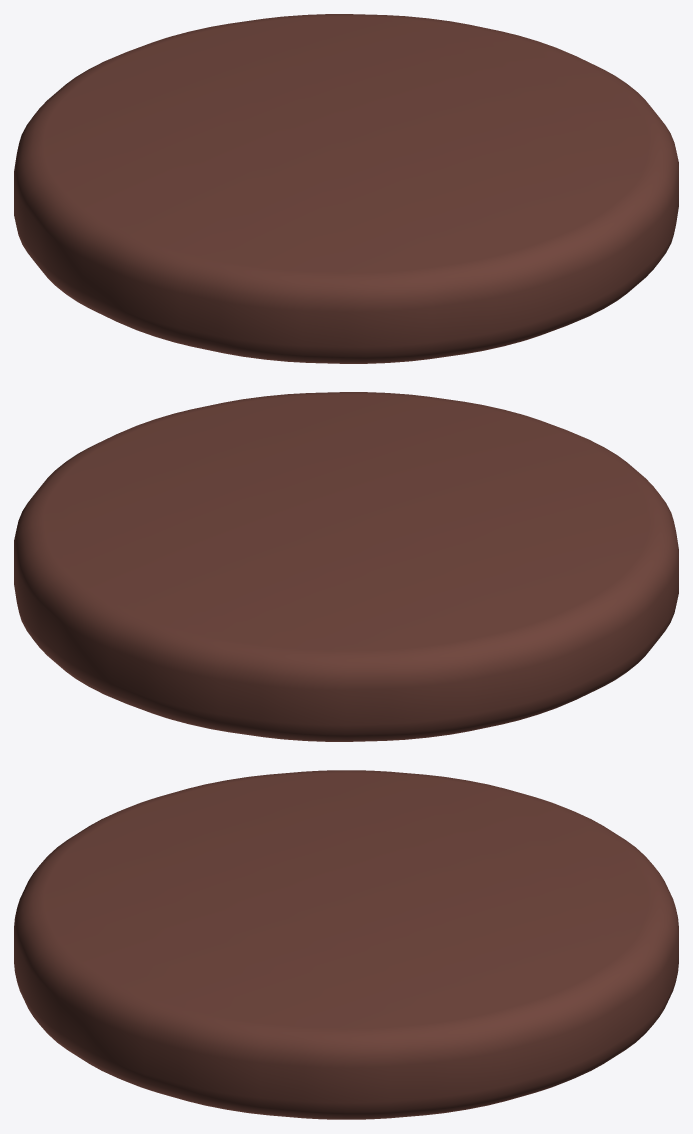
The model's file is meat.fbx.
3 renders of one model, top to bottom at view 1: azimuth 30°, elevation 25°; view 2: azimuth 150°, elevation 25°; view 3: azimuth 270°, elevation 25°, orthographic.
Visible parts, largest first — view 1: Cylinder; view 2: Cylinder; view 3: Cylinder.
Part boxes in pixels (left/top/right/bottom): Cylinder: left=14, top=14, right=678, bottom=363; Cylinder: left=14, top=392, right=678, bottom=741; Cylinder: left=14, top=770, right=678, bottom=1119.
Bounding box in the file's own units: 97.74 × 14.33 × 97.74.
